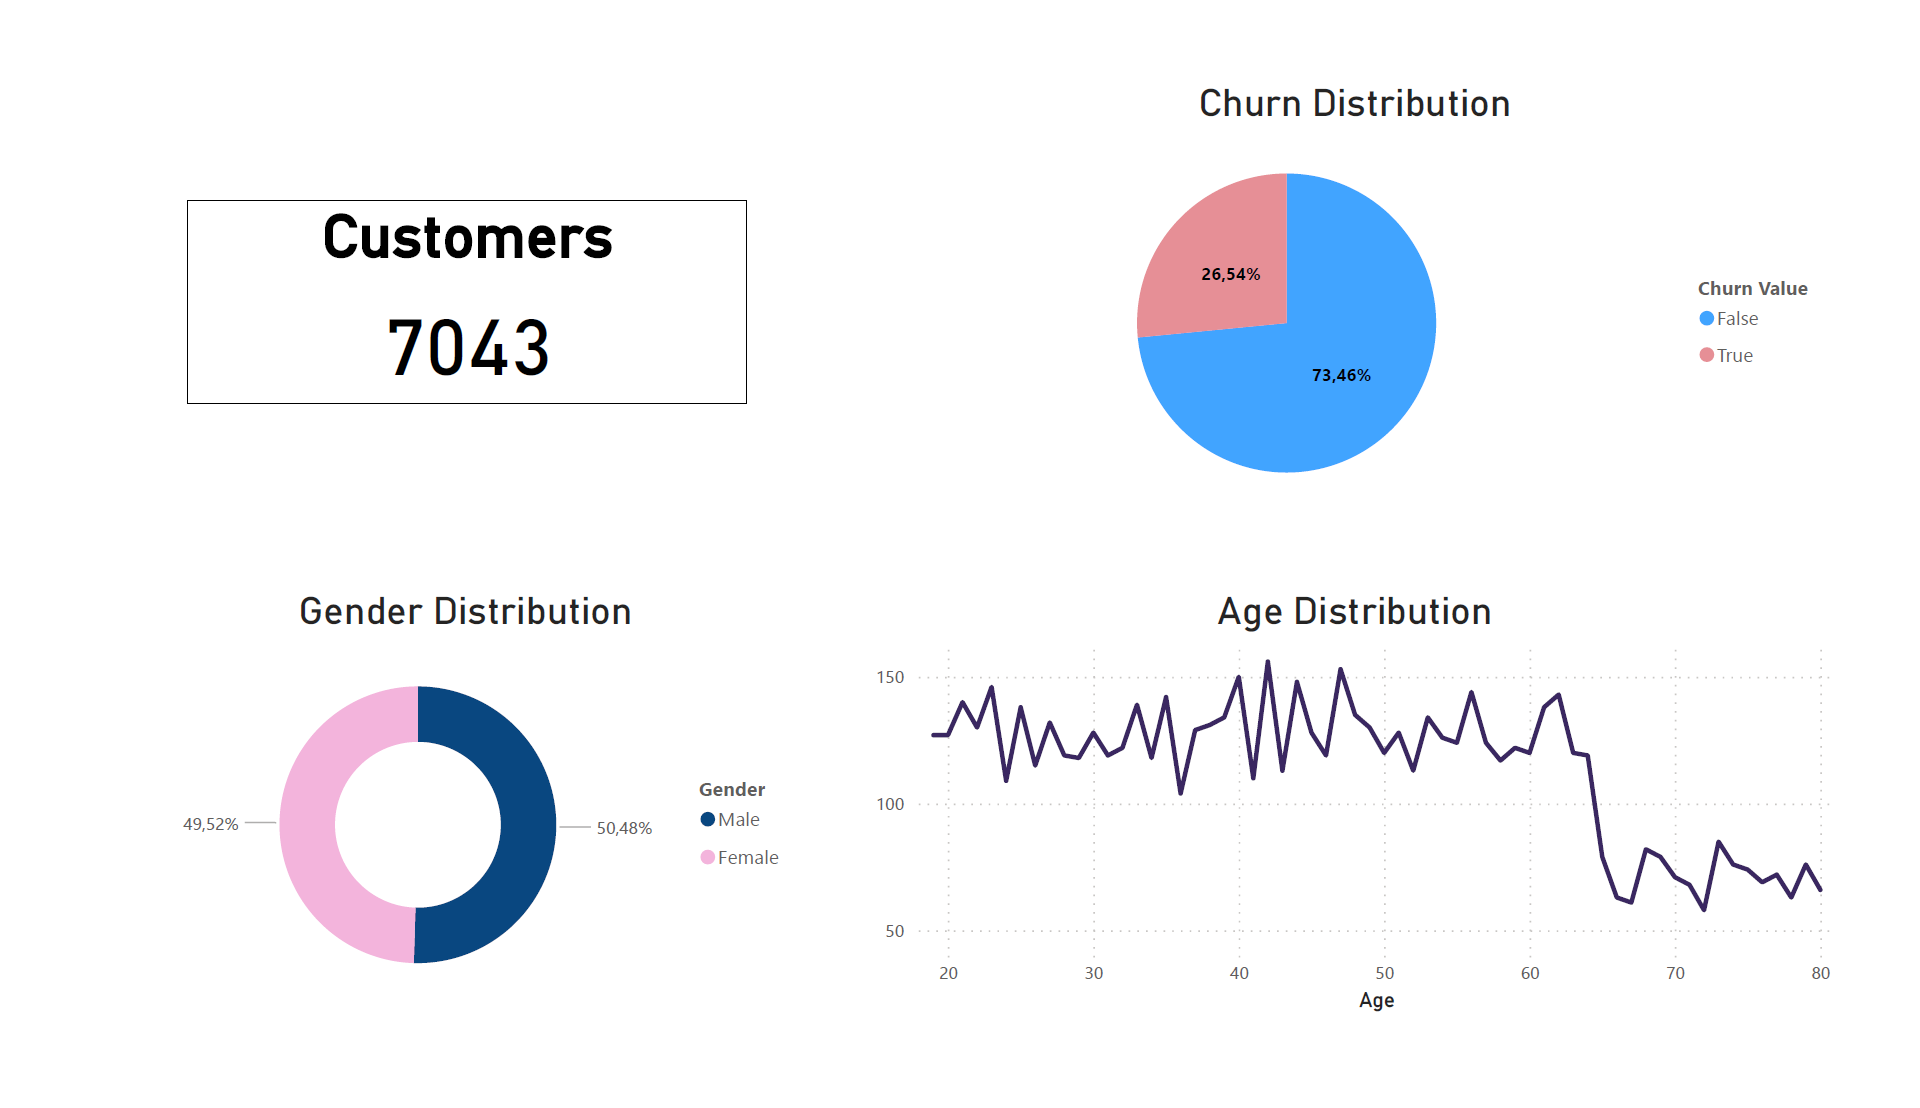

This screenshot's page, from the dashboard's own definition file:
{"tool":"powerbi","page":{"name":"General Overview","canvas":[1280,720],"ordinal":0},"visuals":[{"type":"card","title":"Customers","fields":{"Values":["CountNonNull(telco_churn_data.Customer ID)"]},"box":[94,100,386,140],"z":0},{"type":"pieChart","title":"Churn Distribution","fields":{"Category":["telco_churn_data.Churn Value"],"Y":["CountNonNull(telco_churn_data.Churn Value)"]},"box":[574,32,668,276],"z":1},{"type":"donutChart","title":"Gender Distribution","fields":{"Category":["telco_churn_data.Gender"],"Y":["CountNonNull(telco_churn_data.Gender)"]},"box":[67.5,379.6,505.6,295.7],"z":2},{"type":"lineChart","title":"Age Distribution","fields":{"Category":["telco_churn_data.Age"],"Y":["CountNonNull(telco_churn_data.Customer ID)"]},"box":[573.1,379.6,669.8,277.4],"z":3}]}

Visuals, with their boxes in screenshot pixels (x1, y1, x2, y2), scaled from the page's 1280x720 canvas onto the 1920x1108 screenshot:
"Customers" card: left=141, top=154, right=720, bottom=369
"Churn Distribution" pieChart: left=861, top=49, right=1863, bottom=474
"Gender Distribution" donutChart: left=101, top=584, right=860, bottom=1039
"Age Distribution" lineChart: left=860, top=584, right=1864, bottom=1011
